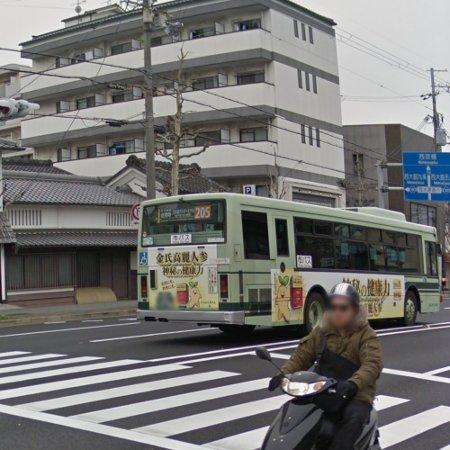crosswalks: (0, 345, 287, 450)
